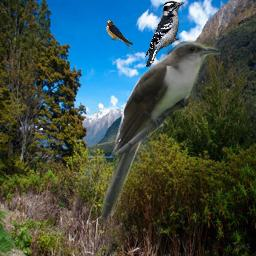Cuckoo: (95, 39, 221, 227)
Swallow: (106, 20, 137, 55)
Woodpecker: (145, 0, 185, 67)
